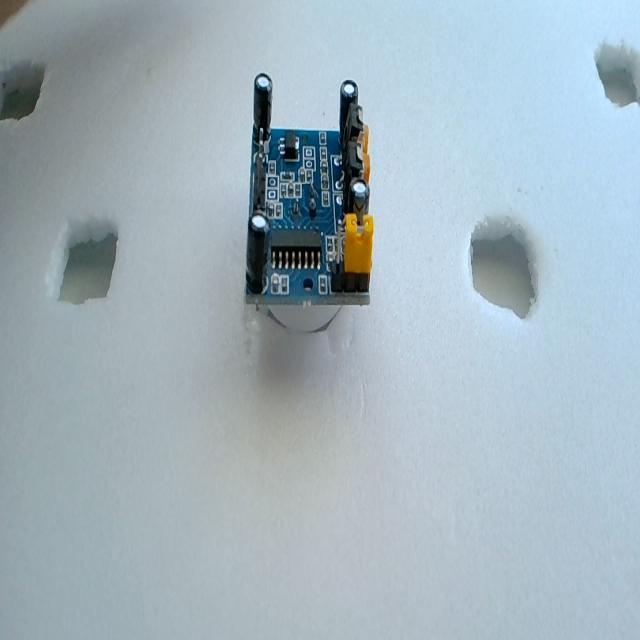Electrolytic capacitor: (246, 213, 269, 291), (254, 73, 274, 138), (339, 80, 358, 137), (348, 176, 370, 218)
IC: (270, 230, 322, 273)
pinheader: (249, 146, 271, 220)
